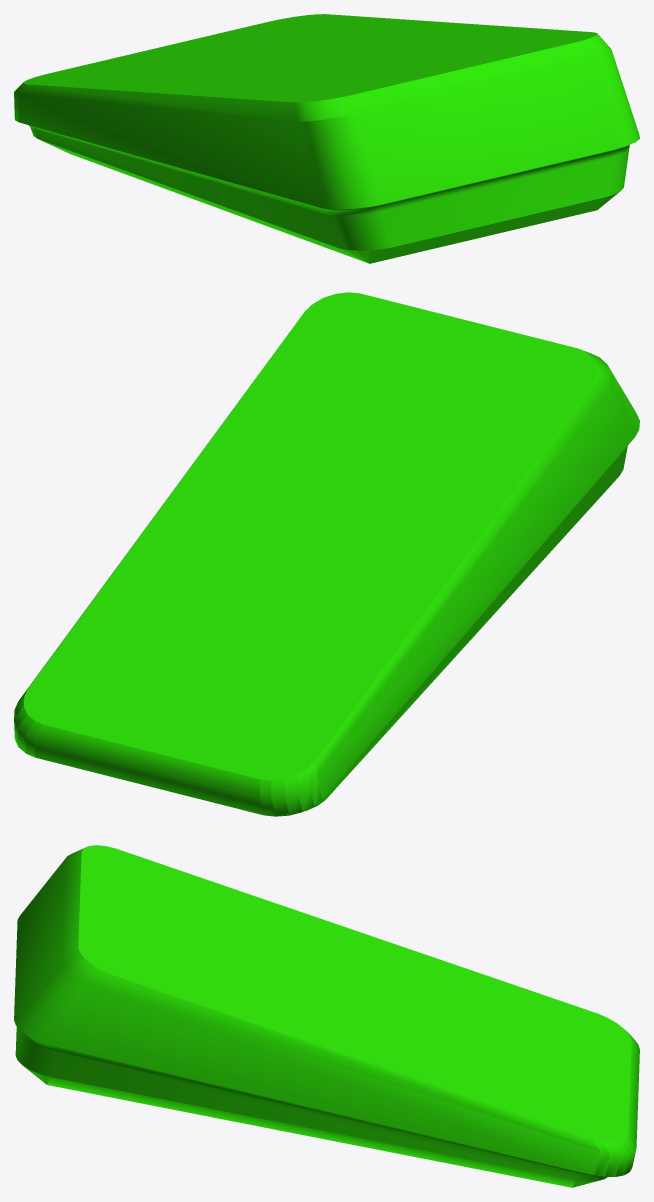
Rendered from Bank_Card_Reader_Lod0.fbx.
3 views of the same model, one above another, from view 1: azimuth 30°, elevation 25°; view 2: azimuth 150°, elevation 25°; view 3: azimuth 270°, elevation 25° (orthographic). The views are drawn at different scales.
Visible parts, largest first — view 1: Bank_Card_Reader_Lod0; view 2: Bank_Card_Reader_Lod0; view 3: Bank_Card_Reader_Lod0.
Boxes of the visible parts, <box> form: Bank_Card_Reader_Lod0: <box>14,14,639,263</box>; Bank_Card_Reader_Lod0: <box>14,292,639,816</box>; Bank_Card_Reader_Lod0: <box>14,845,639,1187</box>.
Size of the model in its own units: 11.89 by 9.46 by 23.08.
